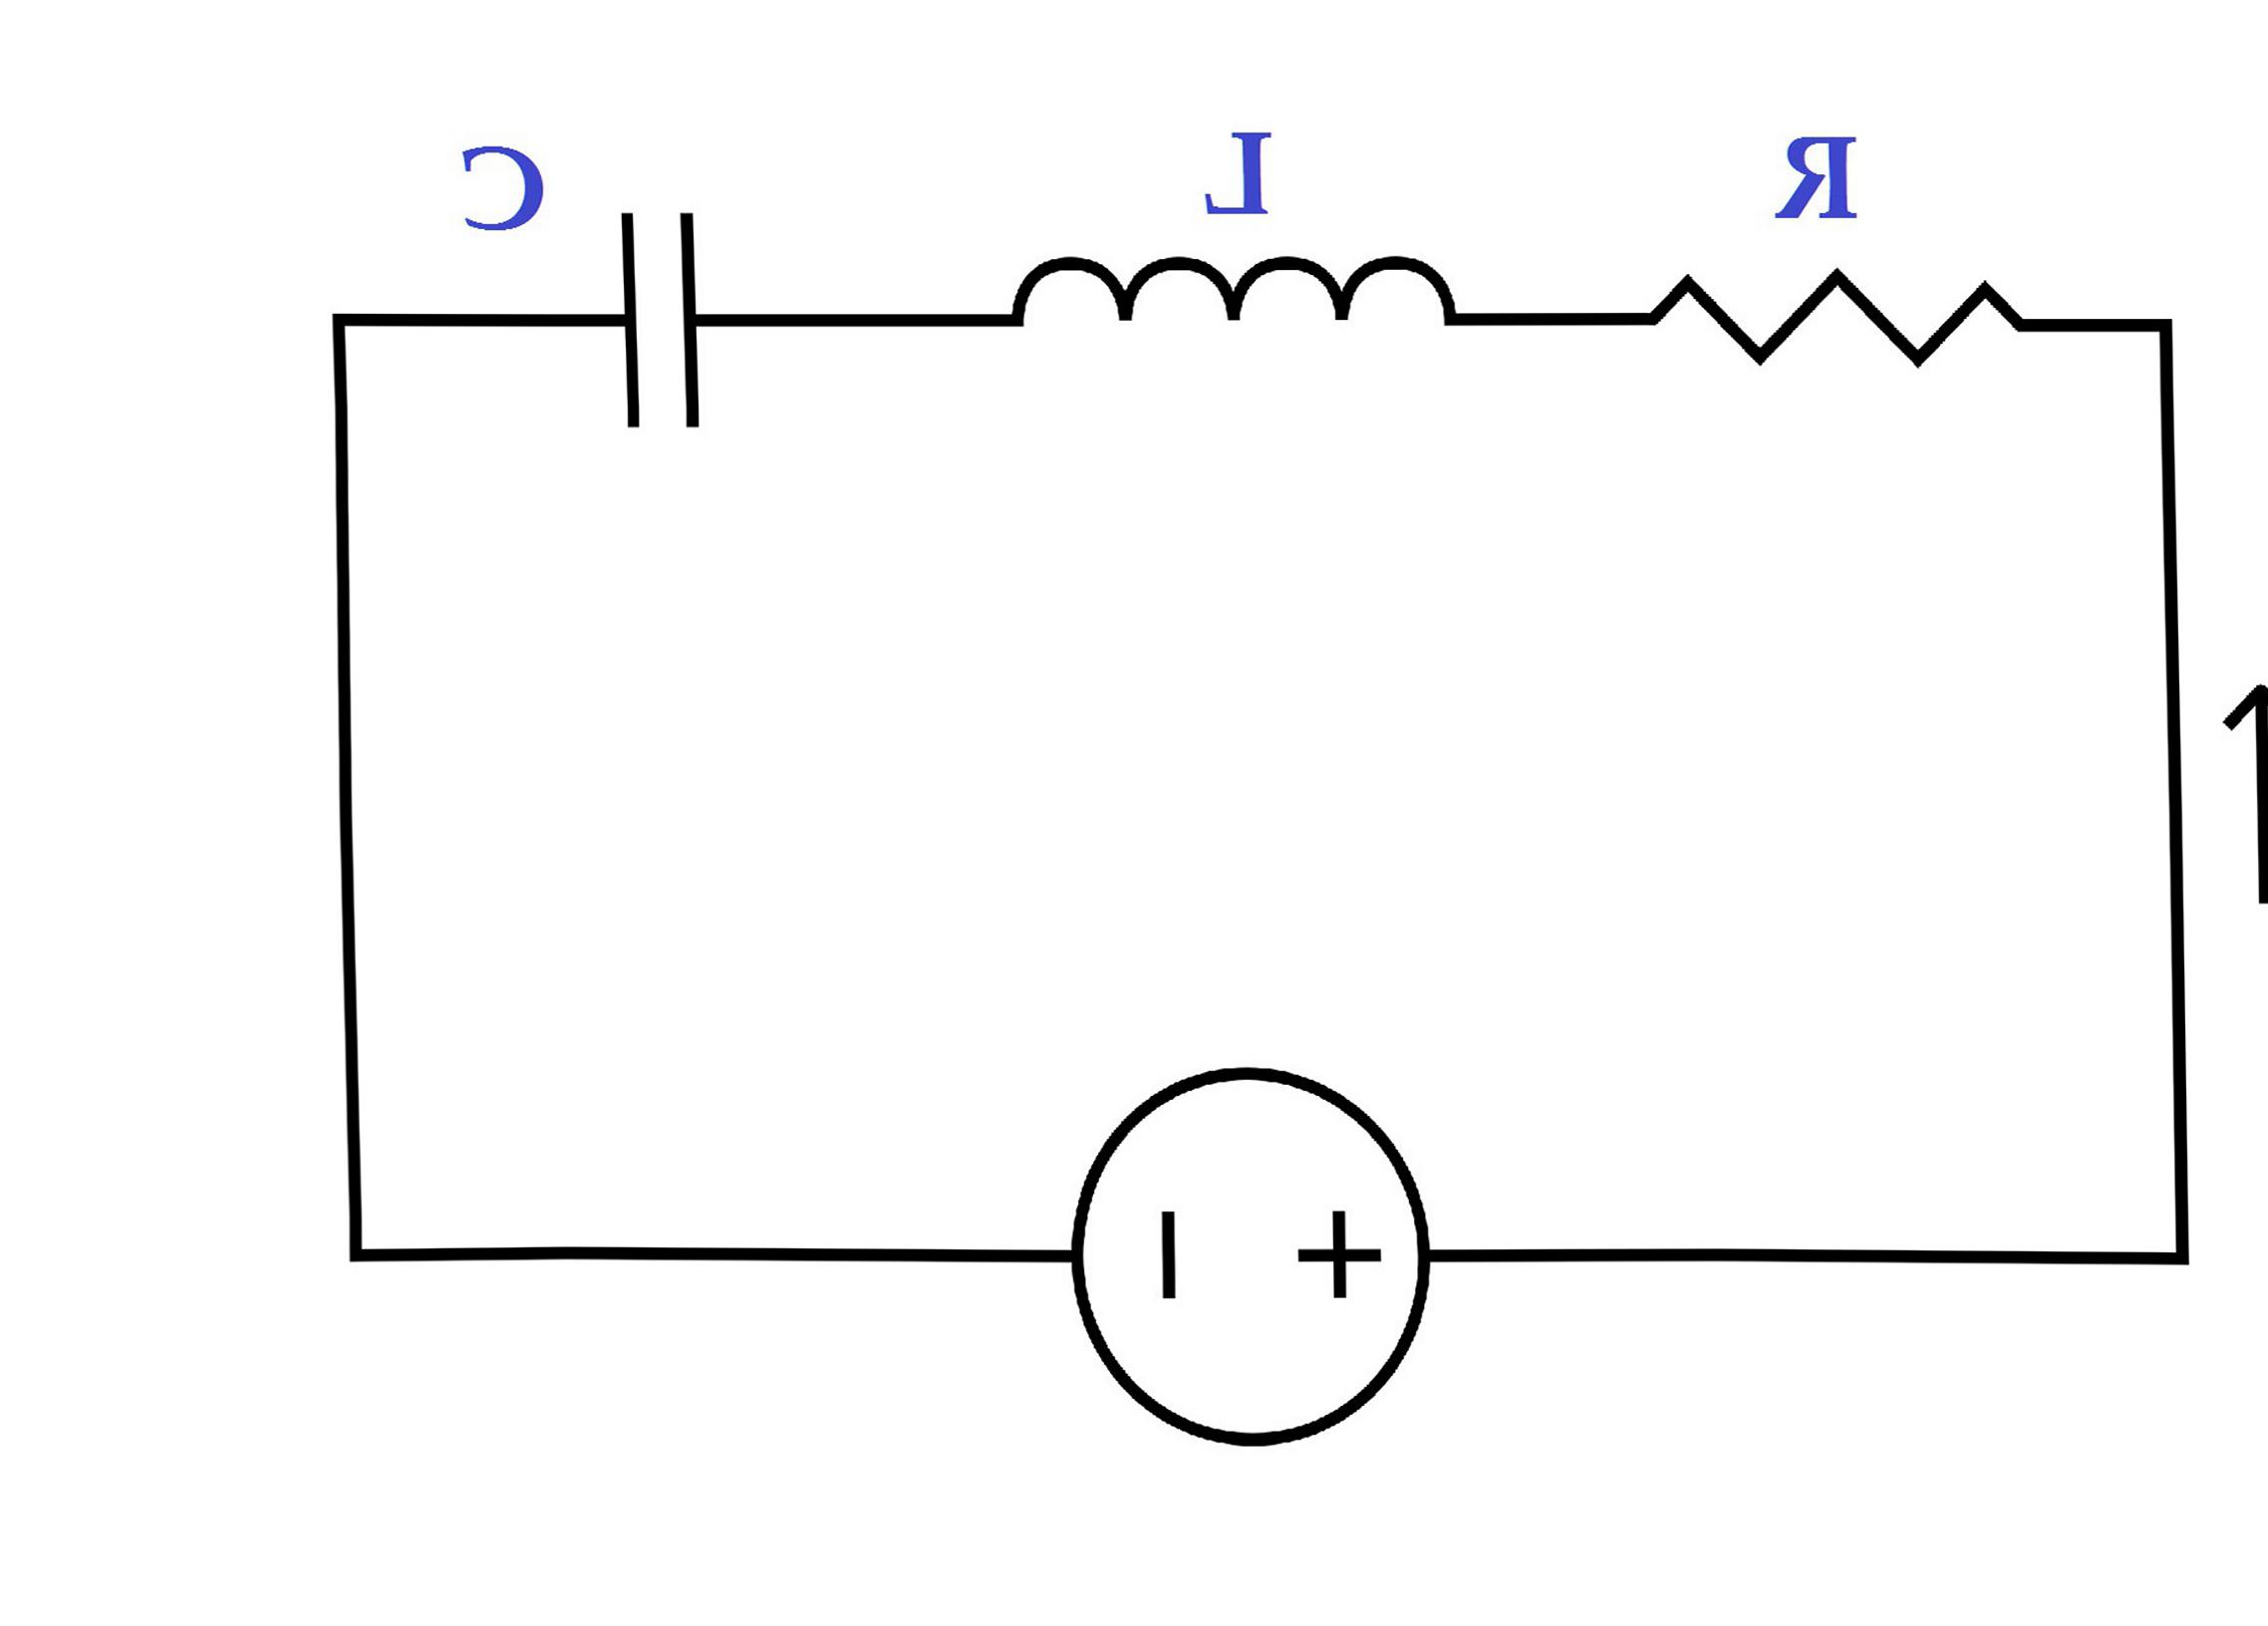Battery: (996, 1007, 1527, 1478)
